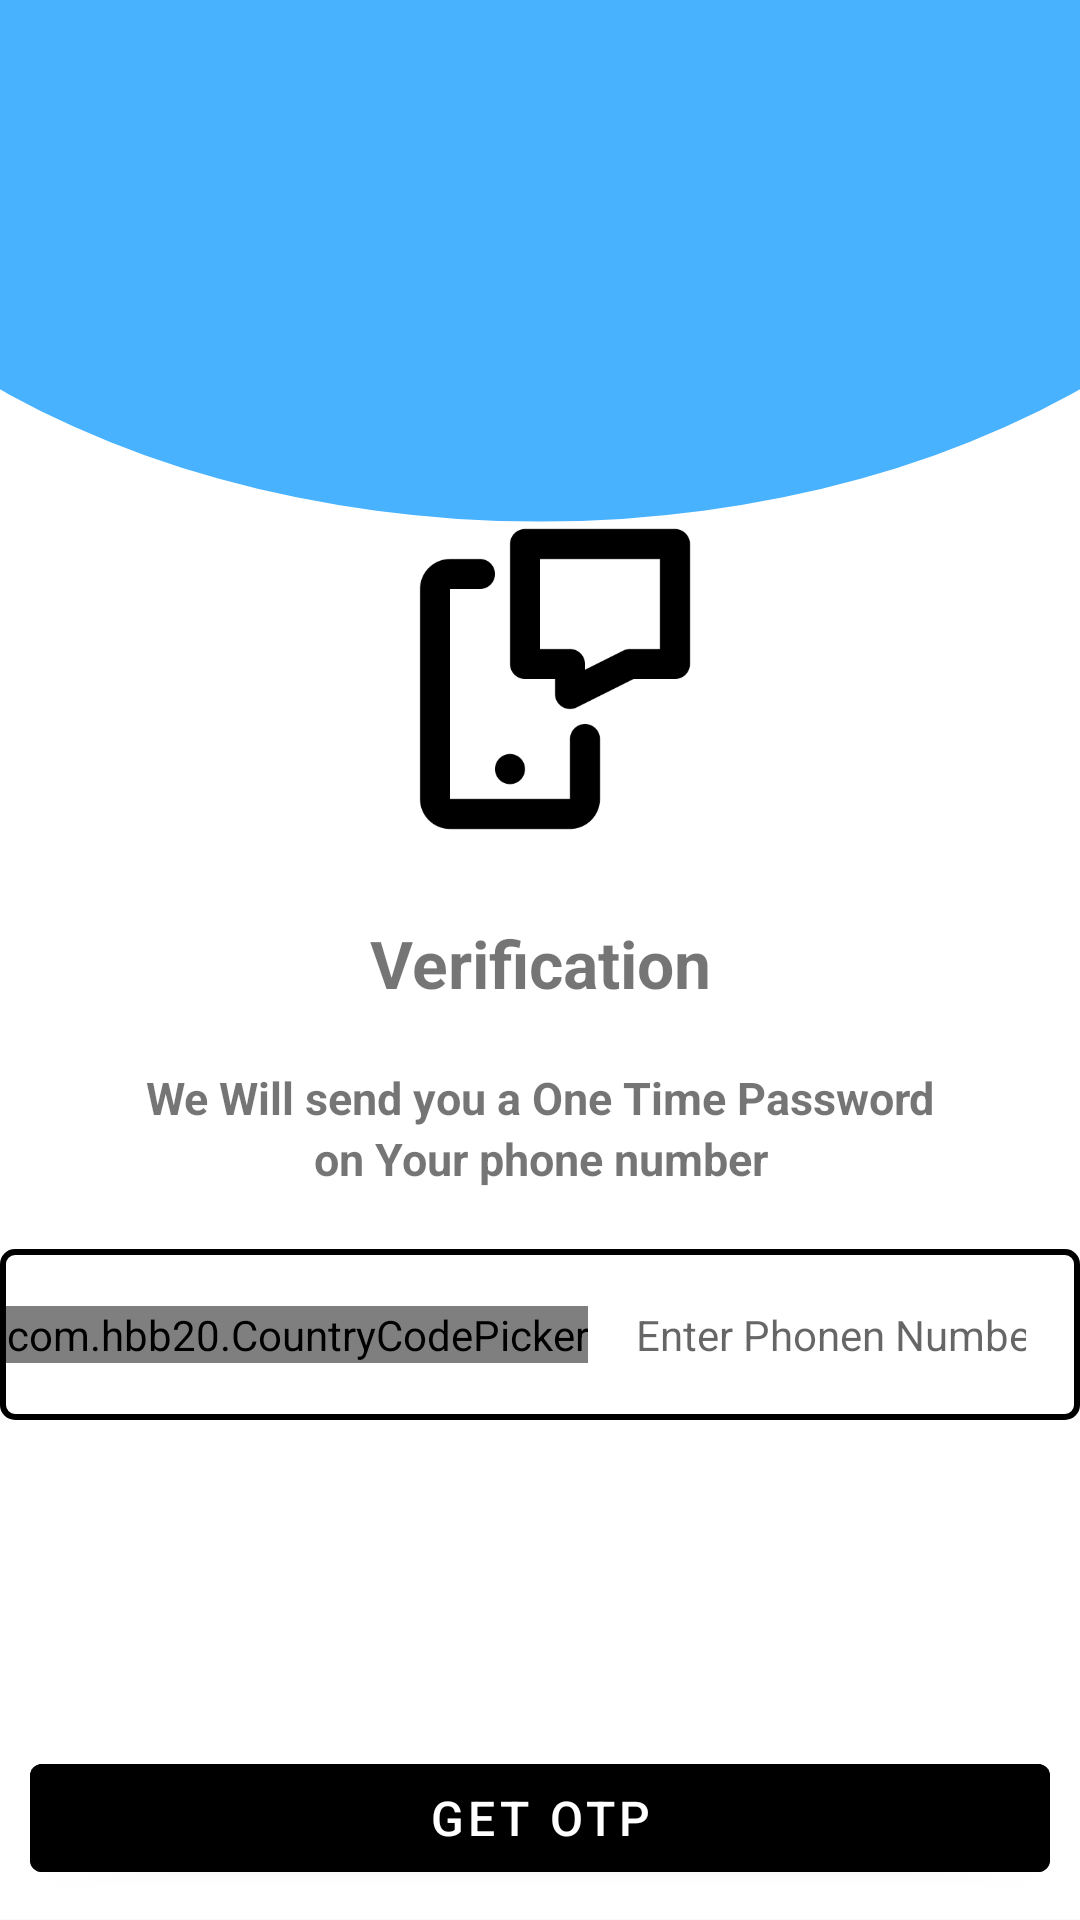

Icons on this 1080 x 1920 Android screen, each with its box as box=[x1, y1, x2, y2]:
smsotpicone: box=[420, 528, 691, 830]
